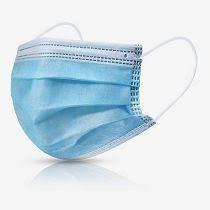paper: (11, 21, 199, 163)
